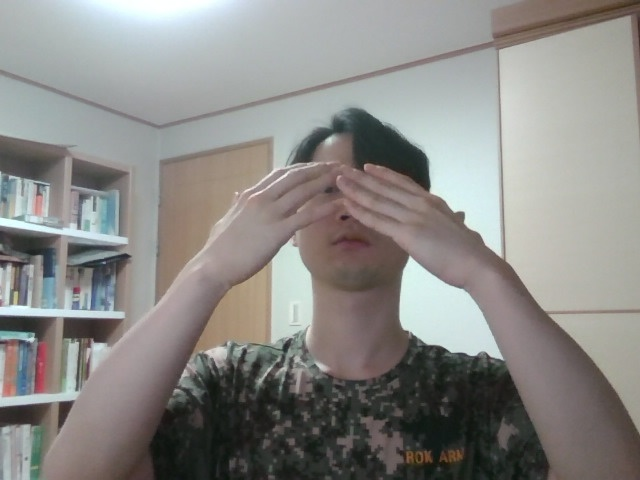thanks: (180, 149, 536, 319)
